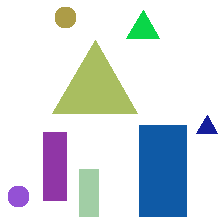circle: (8, 186, 28, 206), (55, 7, 75, 27)
rectangle: (139, 125, 186, 216), (43, 132, 66, 200), (79, 169, 98, 216)
triangle: (52, 40, 137, 113), (126, 10, 159, 38), (196, 115, 217, 133)
